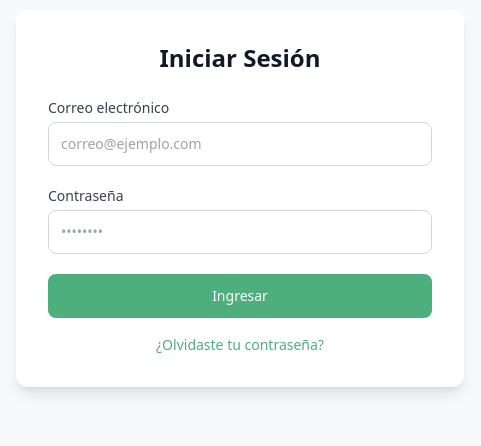
Test: LoginPage › auth failure › shows generic "Credenciales inválidas" on auth failure
Type "test@example.com" into the field labelled "Correo electrónico" at [240, 144], box [48, 122, 432, 166]
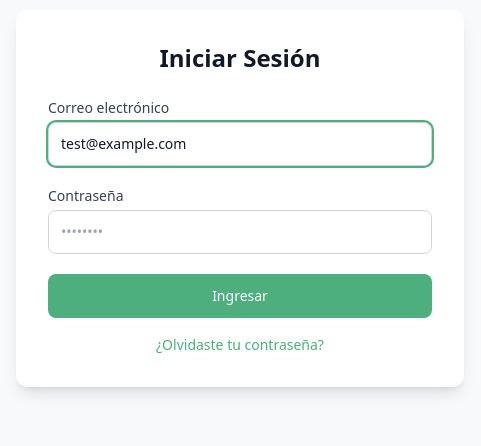
Type "wrongpassword" into the password field labelled "Contraseña" at [240, 232], box [48, 210, 432, 254]
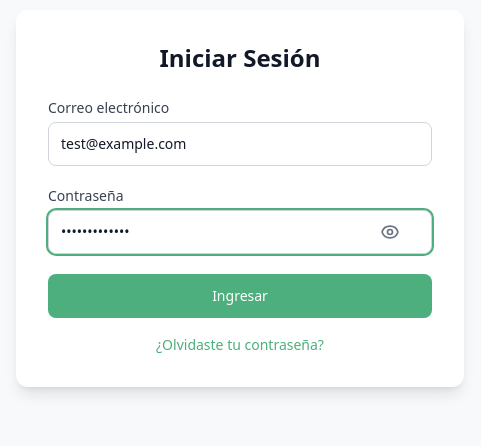
Click the button "Ingresar" at [240, 296], box [48, 274, 432, 318]
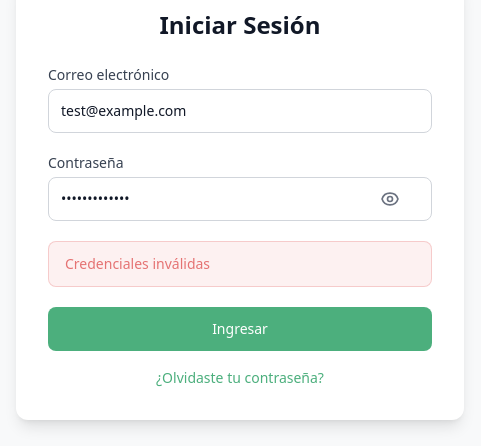
Now the text "Credenciales inválidas" is shown, box [48, 240, 432, 286]
